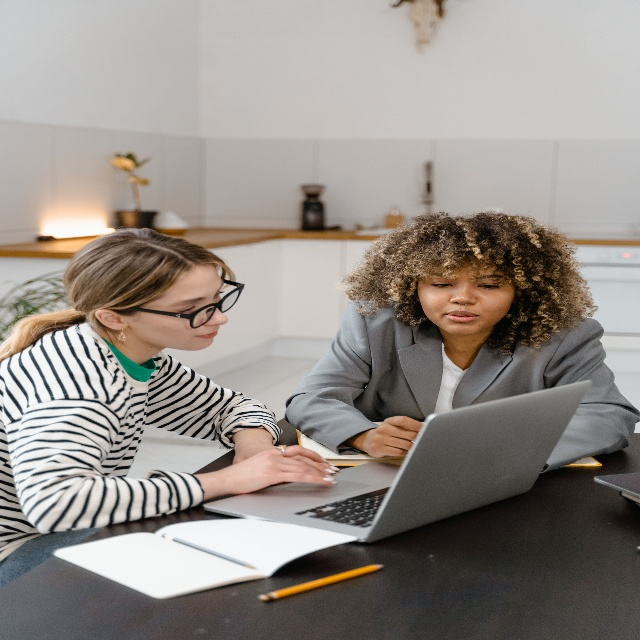Gafas: (130, 278, 245, 329)
Sin_guantes: (230, 444, 340, 495), (363, 415, 424, 459)
